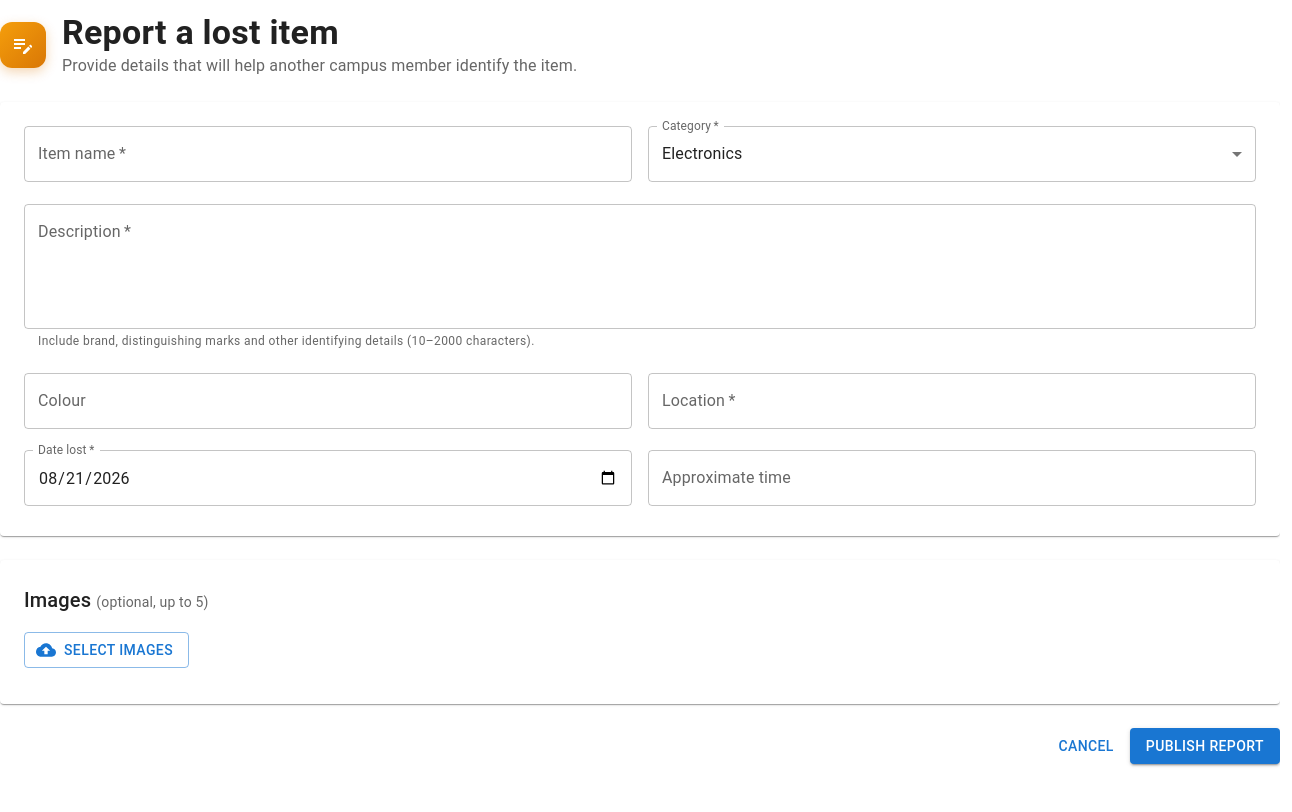
it: CreateReportPage auto-categorization › fills the category from the suggestion when the item name blurs
The image size is (1292, 812).
Type "钱包" into the field labelled "Item name *" at {"x": 328, "y": 154}, box [24, 126, 632, 182]
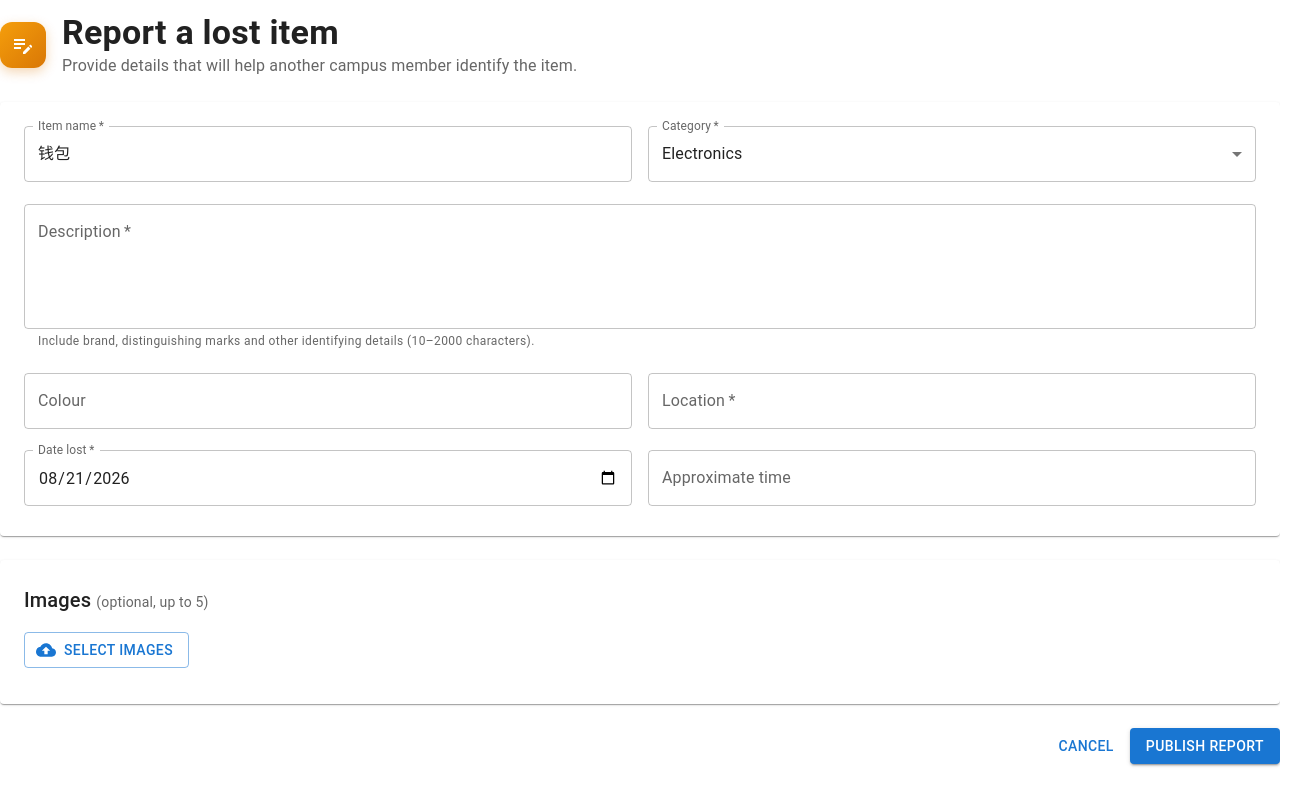
Leave the field labelled "Item name *", box [24, 126, 632, 182]
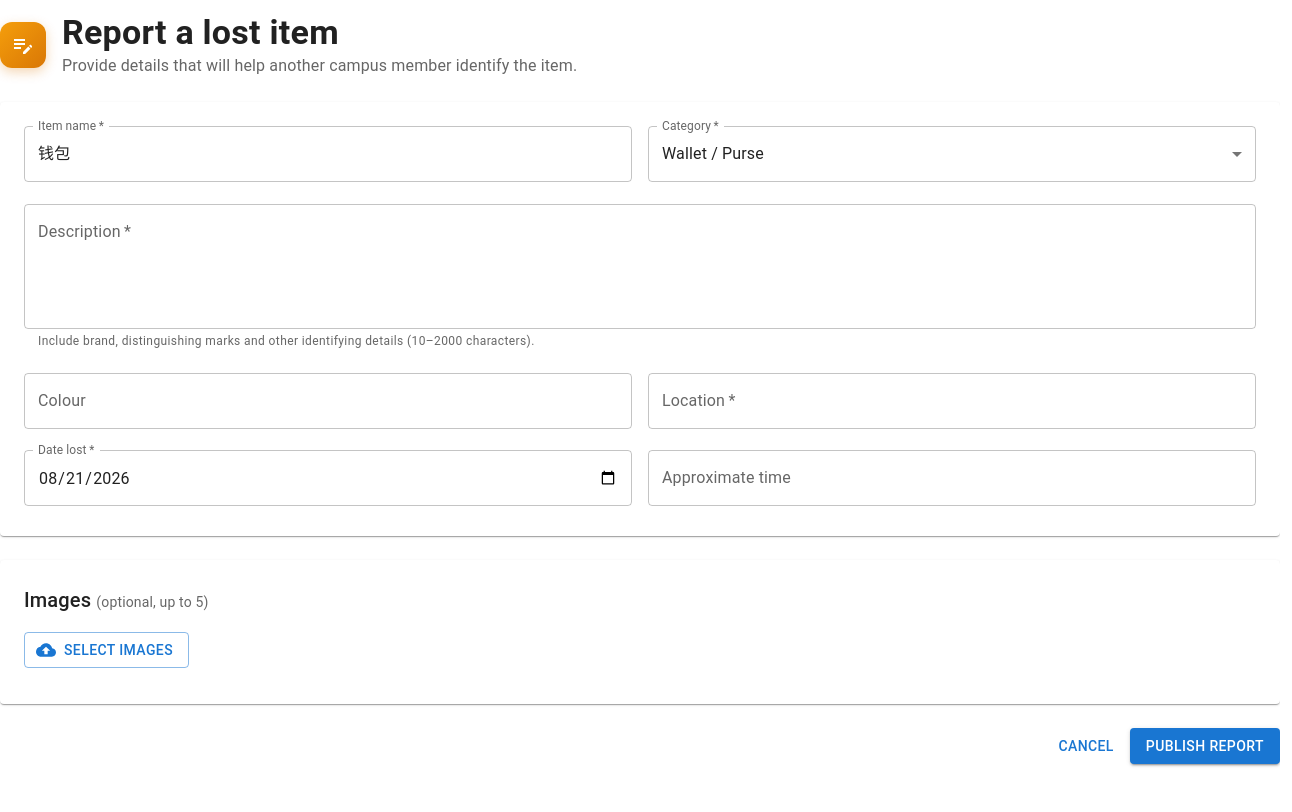
expect the dropdown reads "Wallet / Purse": met, box [662, 144, 764, 164]
